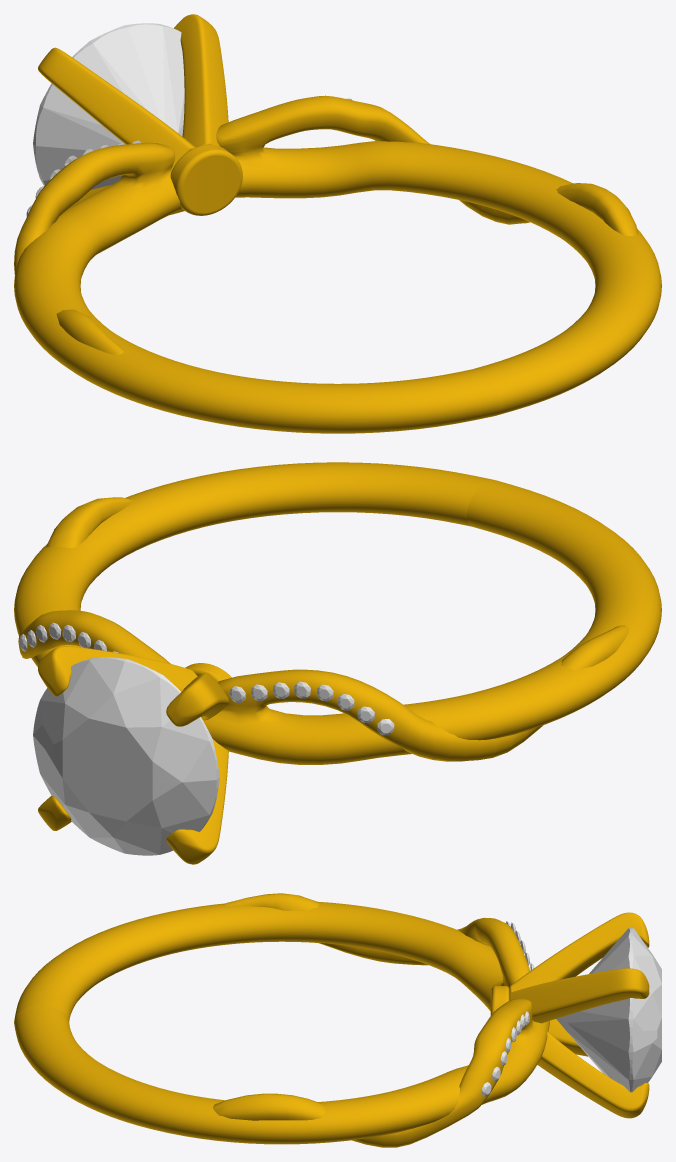
File: ring.glb
The picture shows the model from 3 angles, top to bottom: view 1: azimuth 30°, elevation 25°; view 2: azimuth 150°, elevation 25°; view 3: azimuth 270°, elevation 25°; orthographic projection. The views are drawn at different scales.
Visible parts, largest first — view 1: Torus.029; view 2: Torus.029; view 3: Torus.029.
Part boxes in pixels (<box>): Torus.029: <box>14,14,661,433</box>; Torus.029: <box>14,462,661,864</box>; Torus.029: <box>14,893,661,1147</box>.
Bounding box in the file's own units: 0.2509 × 0.0821 × 0.3042.
